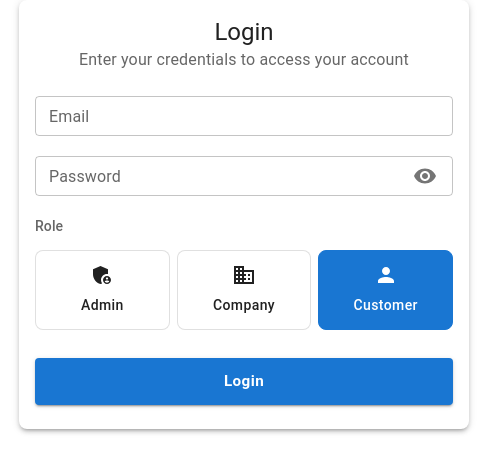
Scenario: LoginForm › Email Validation › should show error for invalid email on blur
Type "invalidemail" into the field labelled "Email" at (244, 116), box [35,96,453,136]
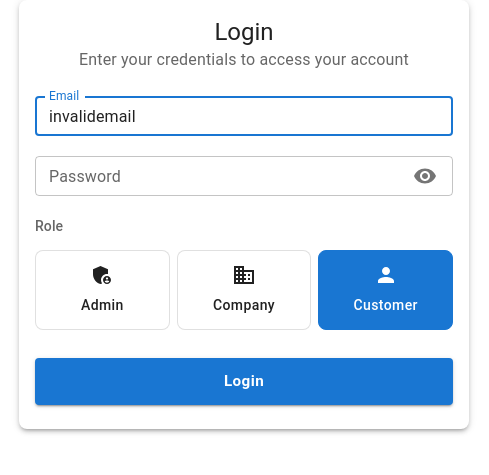
Press Tab
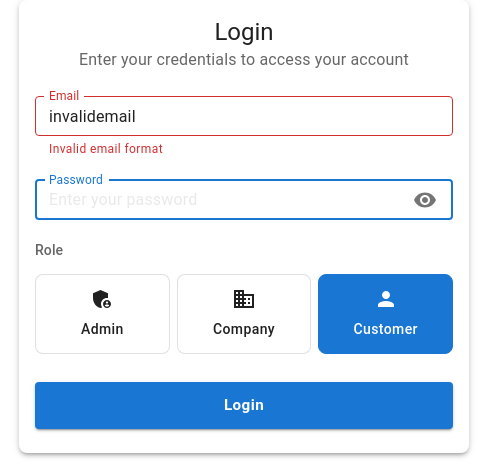
Expected: the text "Invalid email format" is shown, [49,142,163,156]
